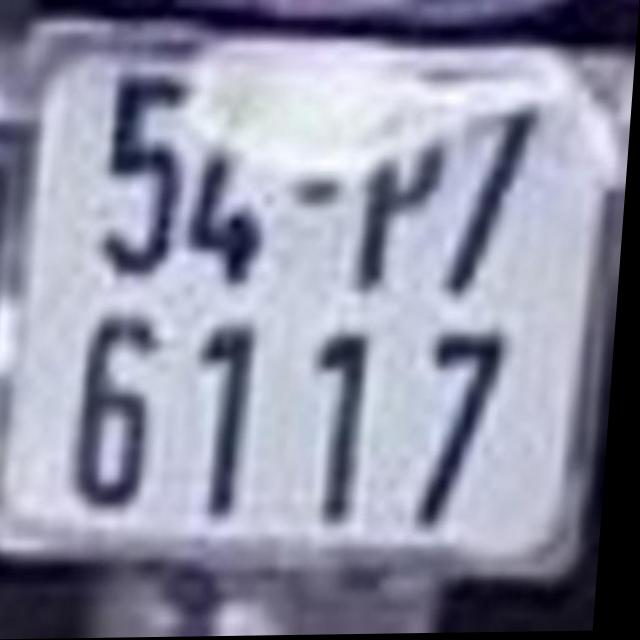1: (313, 332, 376, 518), (202, 325, 255, 517)
4: (191, 80, 276, 285)
5: (100, 72, 193, 272)
6: (85, 309, 163, 506)
7: (448, 89, 539, 302), (416, 322, 507, 526)
P: (350, 88, 453, 297)
